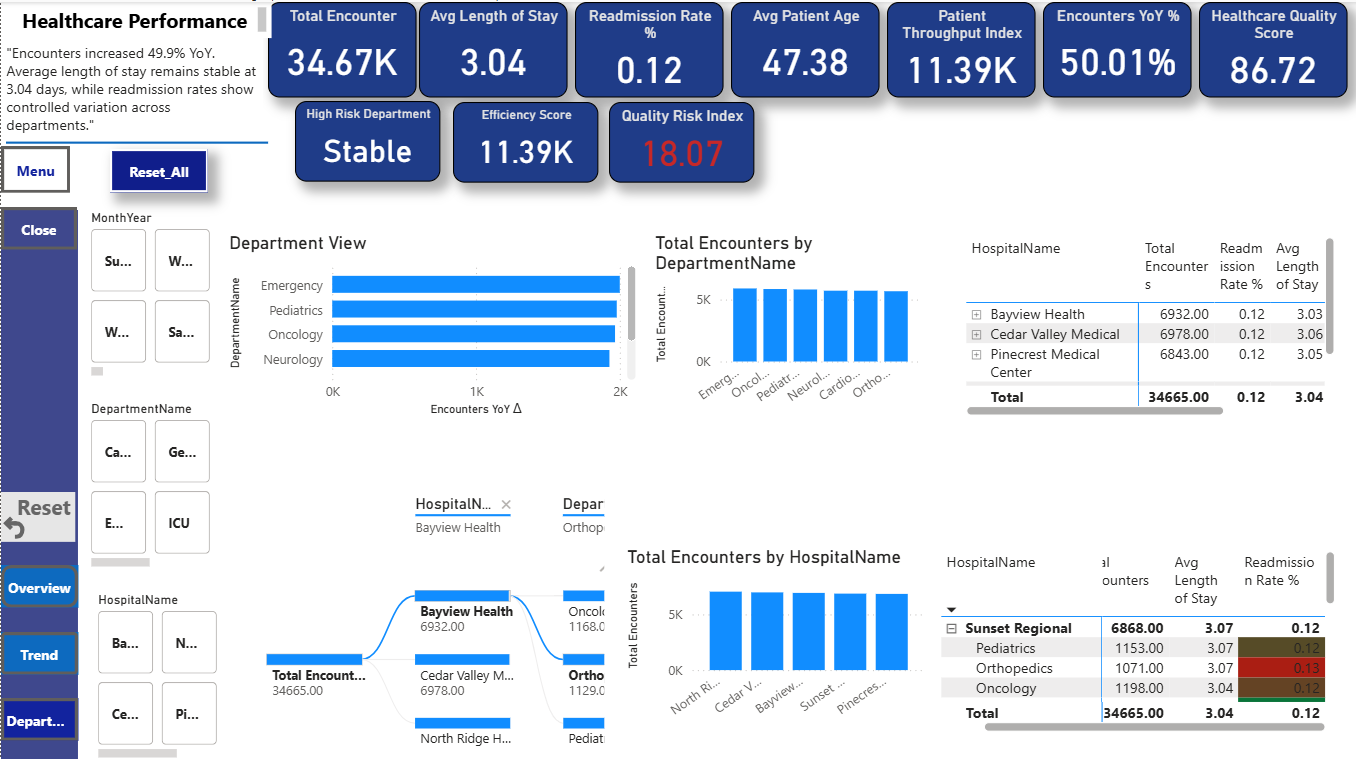

This screenshot's page, from the dashboard's own definition file:
{"tool":"powerbi","page":{"name":"Healthcare Performance","canvas":[1280,720],"ordinal":3},"visuals":[{"type":"shape","title":"Sidebar_Background","box":[0,196.1,72.5,523.9],"z":0,"group":"g1"},{"type":"card","title":"Total Encounter","fields":{"Values":["_Measures.Total Encounters"]},"box":[251.6,0,139.7,90.4],"z":0},{"type":"card","title":"Avg Length of Stay","fields":{"Values":["_Measures.Avg Length of Stay"]},"box":[394.2,0,140,90],"z":1000},{"type":"actionButton","box":[0.4,531,72.5,40.3],"z":1000,"group":"g1"},{"type":"card","title":"Readmission Rate %","fields":{"Values":["_Measures.Readmission Rate %"]},"box":[541.2,0,140,90],"z":2000},{"type":"actionButton","title":"Department","box":[0.4,656.4,72.5,40.3],"z":2000,"group":"g1"},{"type":"card","title":"Avg Patient Age","fields":{"Values":["_Measures.Avg Patient Age"]},"box":[688.2,0,140,90],"z":3000},{"type":"actionButton","box":[0.4,593.7,72.5,40.3],"z":3000,"group":"g1"},{"type":"actionButton","box":[0,462,69.9,46.6],"z":4000,"group":"g1"},{"type":"advancedSlicerVisual","fields":{"Values":["DimDepartment.DepartmentName"]},"box":[79.7,375.9,123.2,164],"z":4000},{"type":"advancedSlicerVisual","fields":{"Values":["DimDate.MonthYear"]},"box":[79.7,195.7,123.2,164],"z":5000},{"type":"advancedSlicerVisual","fields":{"Values":["DimHospital.HospitalName"]},"box":[87,556.2,123.2,164],"z":6000},{"type":"card","title":"Patient Throughput Index","fields":{"Values":["_Measures.Patient Throughput Index"]},"box":[835.2,0,140,90],"z":7000},{"type":"card","title":"Encounters YoY %","fields":{"Values":["_Measures.Encounters YoY %"]},"box":[982.2,0,140,90],"z":8000},{"type":"card","title":"Healthcare Quality Score","fields":{"Values":["_Measures.Healthcare Quality Score"]},"box":[1129.3,0,139.7,90.4],"z":9000},{"type":"textbox","box":[0,34,247.2,104.8],"z":10000},{"type":"shape","box":[4.5,126.3,247.2,12.5],"z":11000},{"type":"textbox","box":[0,0,255.2,34],"z":12000},{"type":"columnChart","fields":{"Category":["DimDepartment.DepartmentName"],"Y":["_Measures.Total Encounters"]},"box":[611.5,216.5,260,173],"z":14000},{"type":"pivotTable","fields":{"Rows":["DimHospital.HospitalName","DimDepartment.DepartmentName"],"Values":["_Measures.Total Encounters","_Measures.Avg Length of Stay","_Measures.Readmission Rate %"]},"box":[881.2,512.7,380.7,180],"z":15000},{"type":"columnChart","fields":{"Category":["DimHospital.HospitalName"],"Y":["_Measures.Total Encounters"]},"box":[584.8,512.2,291,171.9],"z":16000},{"type":"decompositionTreeVisual","fields":{"Analyze":["_Measures.Total Encounters"],"ExplainBy":["DimHospital.HospitalName","DimDepartment.DepartmentName","DimDate.MonthYear"]},"box":[220.3,447.8,352.8,259.7],"z":17000},{"type":"card","title":"High Risk Department","fields":{"Values":["_Measures.High Risk Department"]},"box":[276.7,93.1,137,76.1],"z":18000},{"type":"card","title":"Efficiency Score","fields":{"Values":["_Measures.Efficiency Score"]},"box":[426.3,94,137,76.1],"z":19000},{"type":"card","title":"Quality Risk Index","fields":{"Values":["_Measures.Quality Risk Index"]},"box":[573.1,94,137,76.1],"z":20000},{"type":"pivotTable","fields":{"Rows":["DimHospital.HospitalName","DimDepartment.DepartmentName"],"Values":["_Measures.Total Encounters","_Measures.Readmission Rate %","_Measures.Avg Length of Stay","_Measures.Quality Risk Index"]},"box":[905,216.5,356.9,177.6],"z":21000},{"type":"barChart","title":"Department View","fields":{"Y":["_Measures.Encounters YoY Δ"],"Category":["DimDepartment.DepartmentName"]},"box":[210.2,216.8,393,177.2],"z":22000},{"type":"group","id":"g1","title":"Sidebar_Group","box":[0,196.1,73,523.9],"z":24000},{"type":"actionButton","box":[0,135.9,65.2,44.4],"z":25000},{"type":"actionButton","box":[0,193.4,71.6,40.3],"z":26000},{"type":"actionButton","box":[102.4,138.6,92.4,40.8],"z":27000}]}

Visuals, with their boxes on the page's 1280x720 design canvas (x1, y1, x2, y2). These are canvas units, not pixel positions in the 1356x759 screenshot, which may show the page scaled, cropped or inside an application window:
"Sidebar_Background" shape: bbox=[0, 196, 72, 720]
"Total Encounter" card: bbox=[252, 0, 391, 90]
"Avg Length of Stay" card: bbox=[394, 0, 534, 90]
actionButton: bbox=[0, 531, 73, 571]
"Readmission Rate %" card: bbox=[541, 0, 681, 90]
"Department" actionButton: bbox=[0, 656, 73, 697]
"Avg Patient Age" card: bbox=[688, 0, 828, 90]
actionButton: bbox=[0, 594, 73, 634]
actionButton: bbox=[0, 462, 70, 509]
advancedSlicerVisual - DimDepartment.DepartmentName: bbox=[80, 376, 203, 540]
advancedSlicerVisual - DimDate.MonthYear: bbox=[80, 196, 203, 360]
advancedSlicerVisual - DimHospital.HospitalName: bbox=[87, 556, 210, 720]
"Patient Throughput Index" card: bbox=[835, 0, 975, 90]
"Encounters YoY %" card: bbox=[982, 0, 1122, 90]
"Healthcare Quality Score" card: bbox=[1129, 0, 1269, 90]
textbox: bbox=[0, 34, 247, 139]
shape: bbox=[4, 126, 252, 139]
textbox: bbox=[0, 0, 255, 34]
columnChart - DimDepartment.DepartmentName x _Measures.Total Encounters: bbox=[612, 216, 872, 390]
pivotTable - DimHospital.HospitalName x DimDepartment.DepartmentName: bbox=[881, 513, 1262, 693]
columnChart - DimHospital.HospitalName x _Measures.Total Encounters: bbox=[585, 512, 876, 684]
decompositionTreeVisual - _Measures.Total Encounters x DimHospital.HospitalName: bbox=[220, 448, 573, 708]
"High Risk Department" card: bbox=[277, 93, 414, 169]
"Efficiency Score" card: bbox=[426, 94, 563, 170]
"Quality Risk Index" card: bbox=[573, 94, 710, 170]
pivotTable - DimHospital.HospitalName x DimDepartment.DepartmentName: bbox=[905, 216, 1262, 394]
"Department View" barChart: bbox=[210, 217, 603, 394]
"Sidebar_Group" group: bbox=[0, 196, 73, 720]
actionButton: bbox=[0, 136, 65, 180]
actionButton: bbox=[0, 193, 72, 234]
actionButton: bbox=[102, 139, 195, 179]
